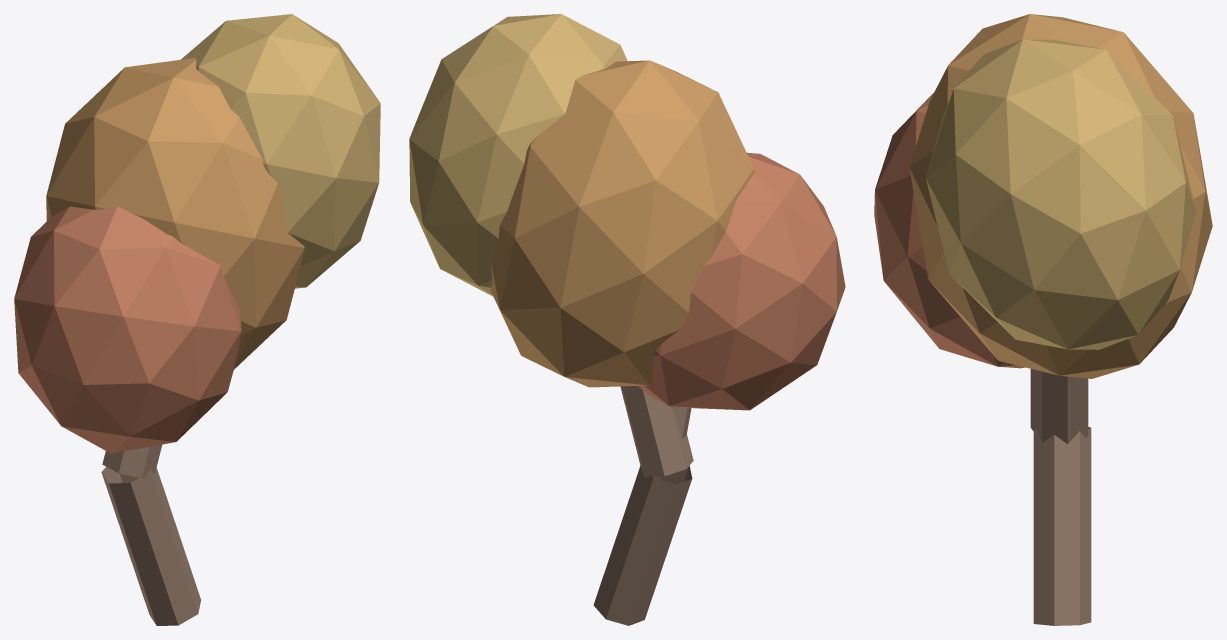
The picture shows the model from 3 angles, left to right: view 1: azimuth 30°, elevation 25°; view 2: azimuth 150°, elevation 25°; view 3: azimuth 270°, elevation 25°; orthographic projection. The views are drawn at different scales.
Visible parts, largest first — view 1: T09; view 2: T09; view 3: T09.
Part boxes in pixels (bbox=[...]): T09: bbox=[14, 14, 380, 625]; T09: bbox=[409, 14, 845, 625]; T09: bbox=[874, 14, 1212, 625].
Size of the model in its own units: 1.42 by 2.07 by 1.
